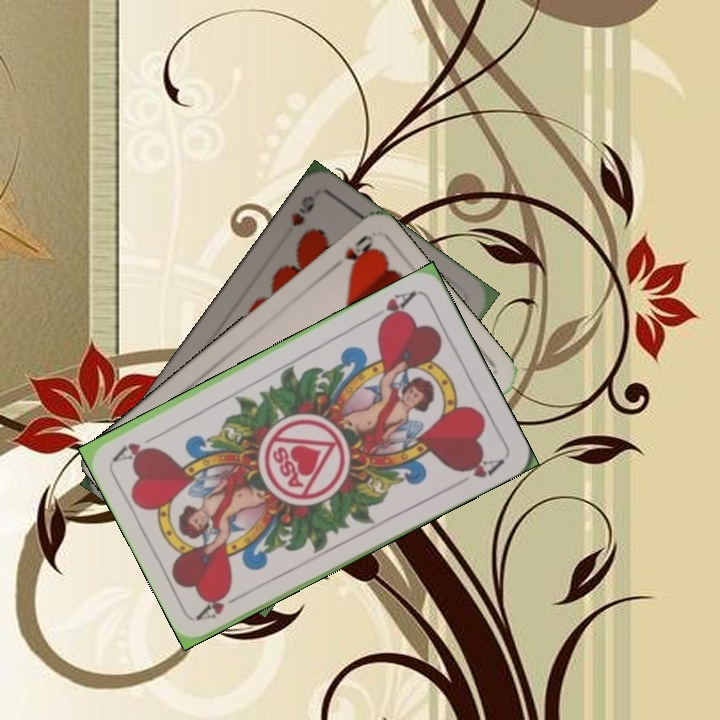H9: (287, 191, 318, 230)
HA: (194, 586, 250, 623), (375, 286, 420, 328)
HO: (327, 231, 379, 274)
